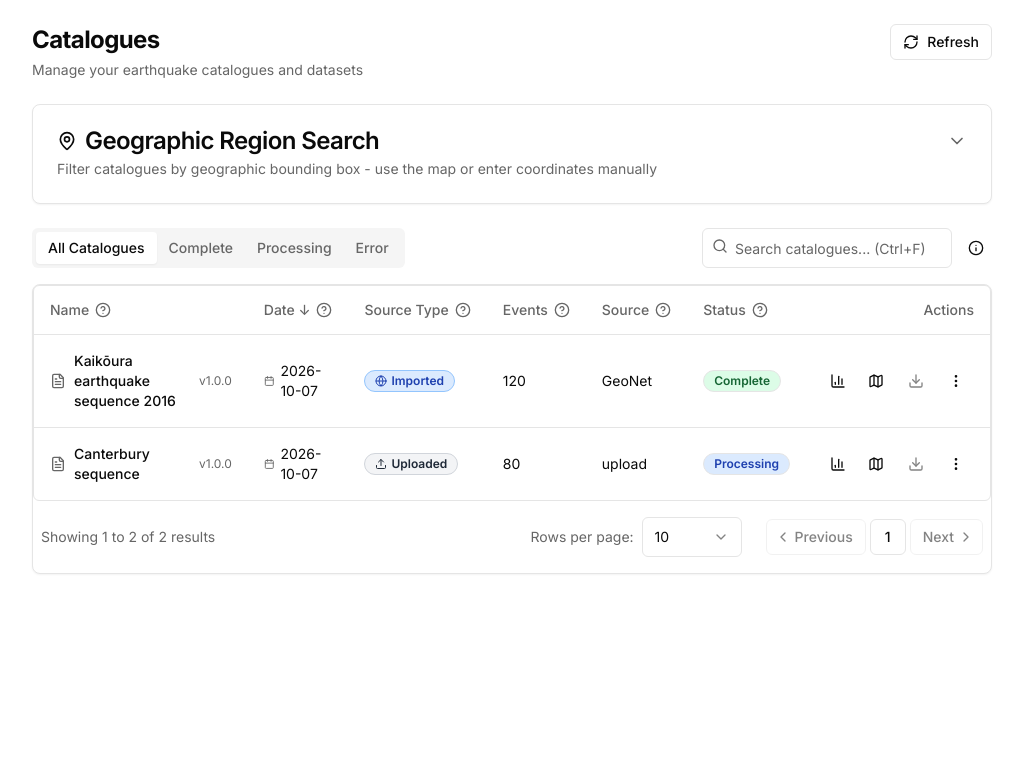
Test: catalogue list page › keeps the loaded rows with a stale notice when a refresh fails
The image size is (1024, 768).
Expected: the link "Kaikōura earthquake sequence 2016" is shown, left=74, top=350, right=191, bottom=410
Click the button "Refresh": click(941, 42) left=890, top=24, right=992, bottom=60
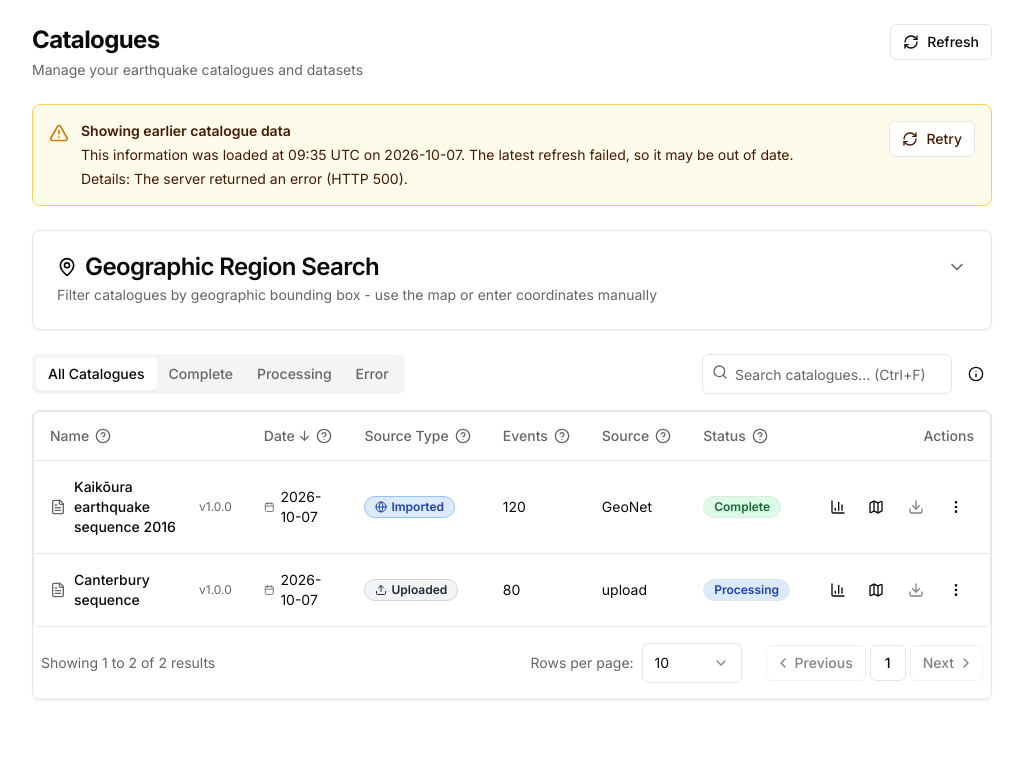
Now the message is shown, box left=32, top=104, right=992, bottom=206
Now the message shows "Showing earlier catalogue data", box left=81, top=122, right=291, bottom=139
Now the message shows "The latest refresh failed", box left=469, top=146, right=794, bottom=163
